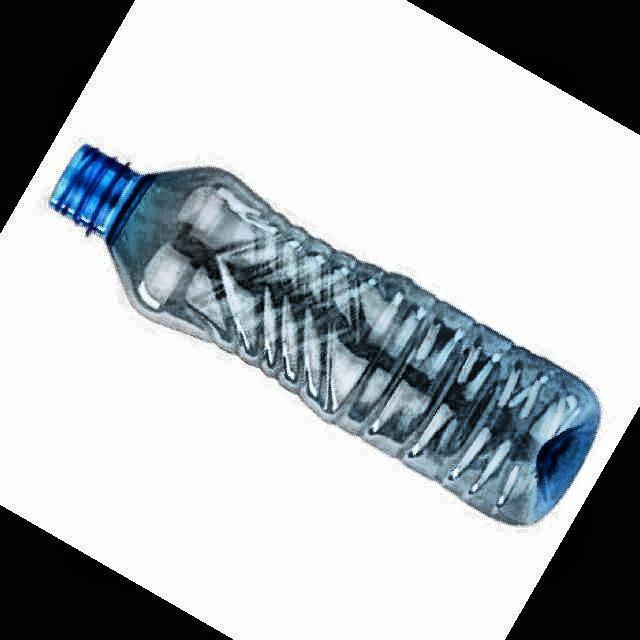plastic: (50, 145, 600, 524)
